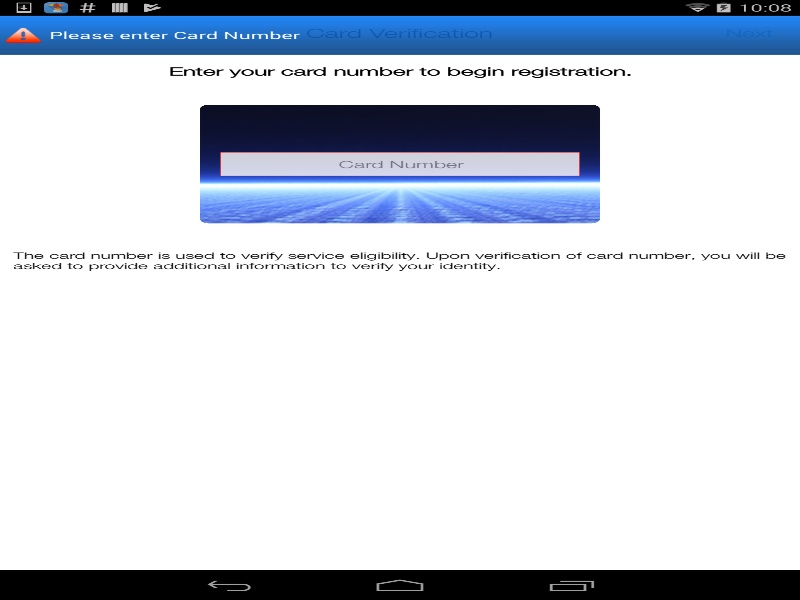Input: (220, 152, 580, 175)
